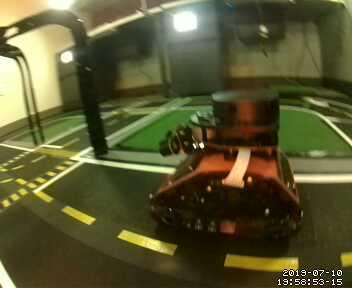pheeno: (151, 87, 307, 244)
